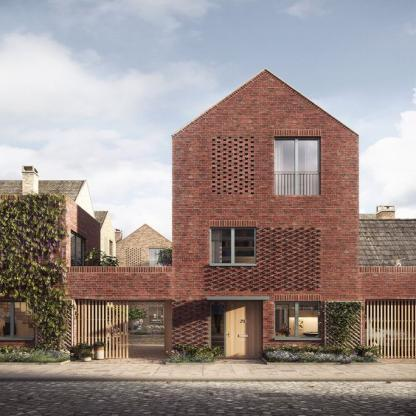Balcony: (66, 267, 172, 285)
Building Outline: (0, 67, 416, 360)
Cornice: (274, 294, 321, 301), (210, 220, 257, 227), (274, 130, 321, 136), (206, 296, 269, 300)
Door: (76, 300, 172, 359), (366, 299, 415, 359), (226, 302, 260, 359), (71, 232, 83, 281)
Facade: (0, 67, 416, 360)
Floor Slab: (0, 285, 416, 292), (172, 197, 360, 204)
Glass Wall: (274, 139, 320, 196)
Molding: (172, 70, 358, 140), (66, 267, 172, 273), (359, 267, 416, 273)
Roof: (346, 219, 416, 267)
Sill: (210, 263, 257, 266), (275, 337, 322, 340), (0, 338, 33, 341)
Window: (274, 301, 320, 337), (210, 227, 254, 263), (0, 300, 35, 338), (212, 302, 224, 359)
